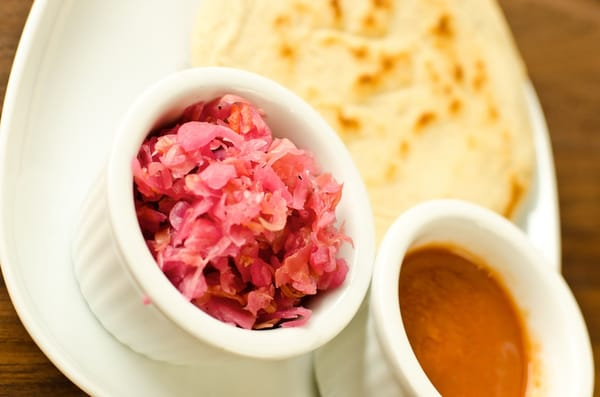sushi: (104, 64, 377, 361)
